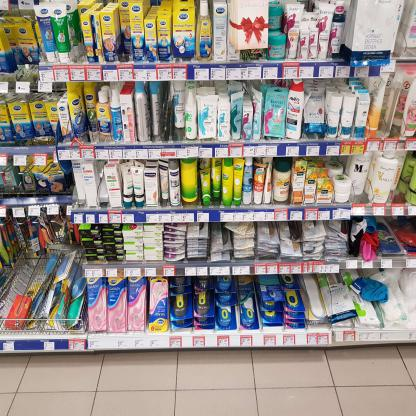Void: (95, 159, 107, 205)
